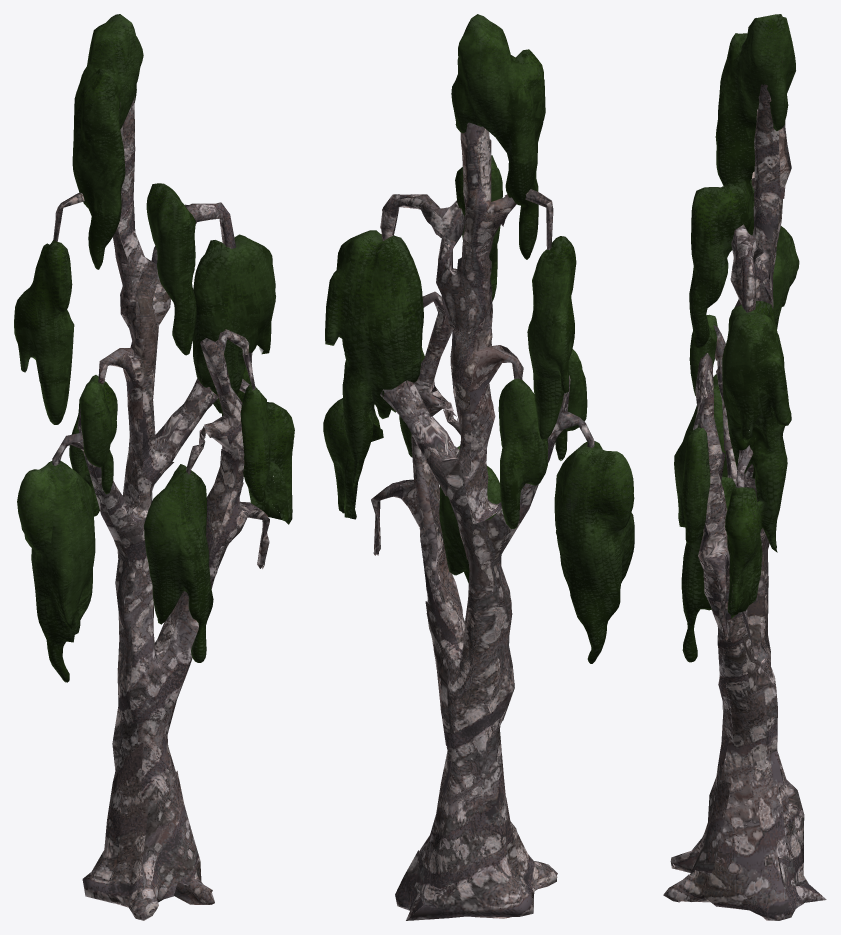
The picture shows the model from 3 angles, left to right: view 1: azimuth 30°, elevation 25°; view 2: azimuth 150°, elevation 25°; view 3: azimuth 270°, elevation 25°; orthographic projection. The views are drawn at different scales.
Visible parts, largest first — view 1: Object_2, Object_4; view 2: Object_4, Object_2; view 3: Object_4, Object_2.
Boxes of the visible parts, bbox=[...] form: Object_2: bbox=[14, 14, 294, 682]; Object_4: bbox=[52, 95, 269, 920]; Object_4: bbox=[371, 66, 594, 920]; Object_2: bbox=[323, 14, 634, 663]; Object_4: bbox=[663, 61, 826, 920]; Object_2: bbox=[674, 14, 799, 662].
Size of the model in its own units: 510 by 1497 by 254.
Materials: 3 (2 with a texture image).
